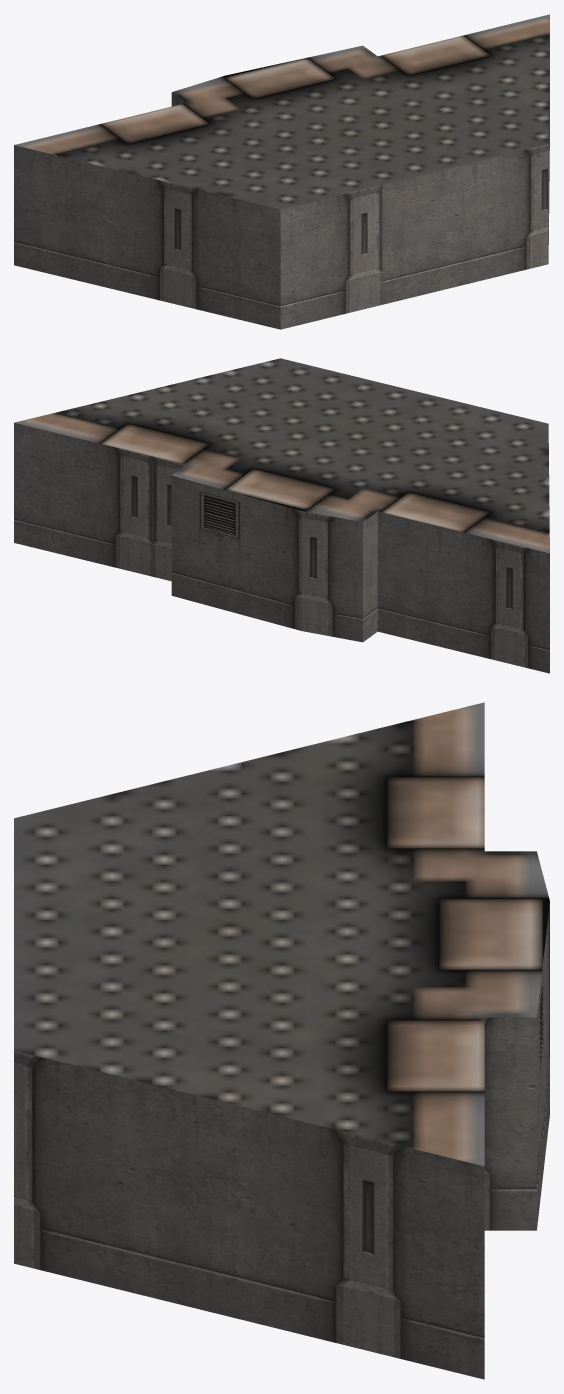
The model's file is building_hard_a_28.glb.
The picture shows the model from 3 angles, top to bottom: view 1: azimuth 30°, elevation 25°; view 2: azimuth 150°, elevation 25°; view 3: azimuth 270°, elevation 25°; orthographic projection. The views are drawn at different scales.
Visible parts, largest first — view 1: buildings/saxarba/building_hard/building_hard_a_28; view 2: buildings/saxarba/building_hard/building_hard_a_28; view 3: buildings/saxarba/building_hard/building_hard_a_28.
Boxes of the visible parts, left/top/right/bottom form: buildings/saxarba/building_hard/building_hard_a_28: left=14, top=14, right=549, bottom=329; buildings/saxarba/building_hard/building_hard_a_28: left=14, top=358, right=549, bottom=673; buildings/saxarba/building_hard/building_hard_a_28: left=14, top=702, right=549, bottom=1379.
Bounding box in the file's own units: 84 × 18 × 41.
